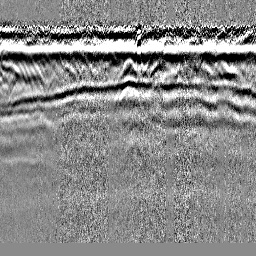cavity: (119, 57, 138, 79)
